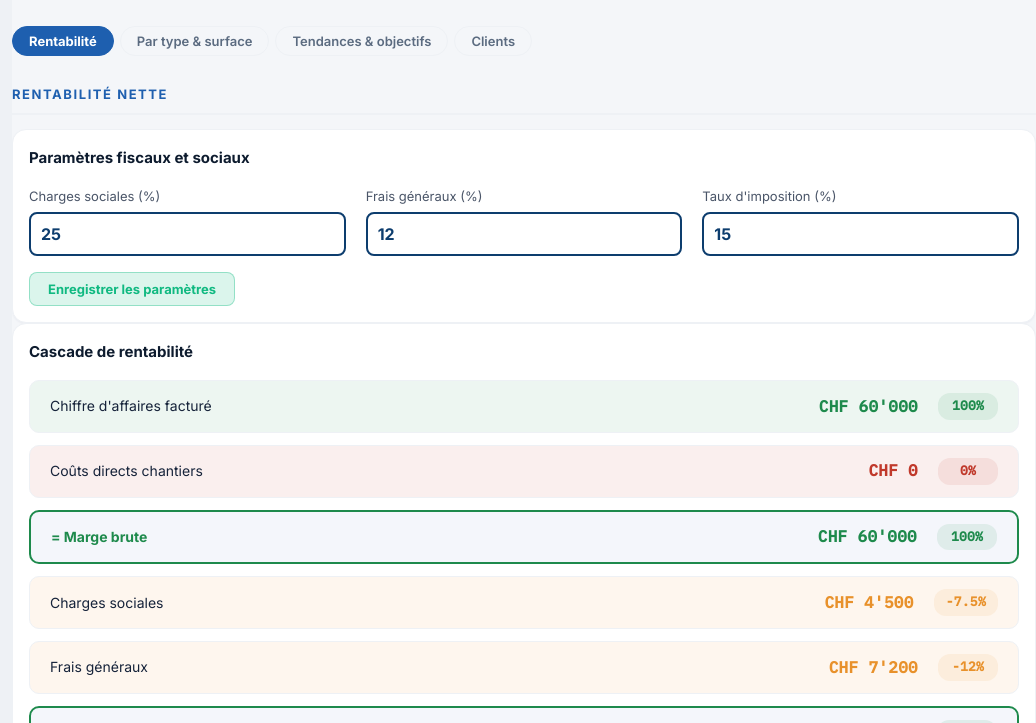
Test: RAPPORT HEBDO — en-tête + tableaux › affiche le rapport hebdomadaire, les chantiers en cours et les paiements
Click the button "Tendances & objectifs". click: [362, 41]
box: left=275, top=26, right=448, bottom=56
(page scrolled)
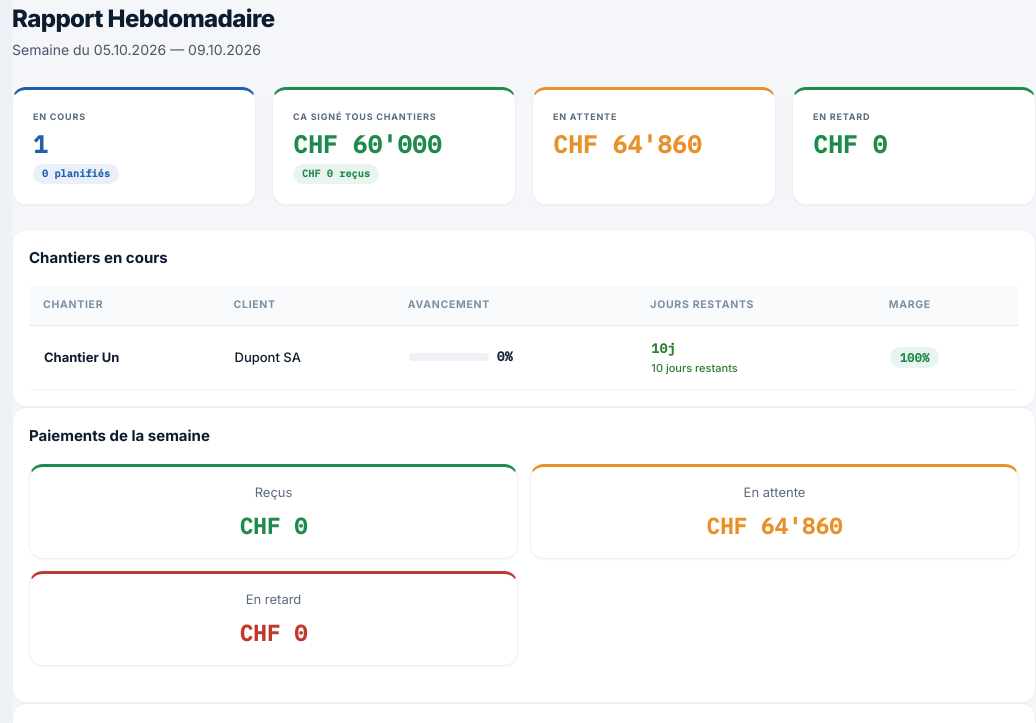
Expected: the text "Rapport Hebdomadaire" is shown, left=12, top=5, right=275, bottom=34
Expected: the text "Chantiers en cours" is shown, left=29, top=248, right=168, bottom=267
Expected: the text "Paiements de la semaine" is shown, left=29, top=426, right=210, bottom=445
